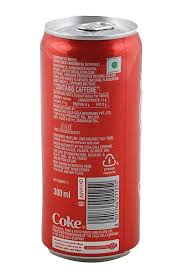coke-can: (38, 16, 143, 263)
